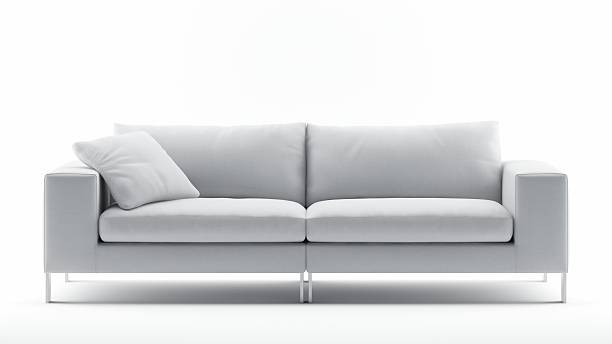couch: (31, 95, 579, 321)
